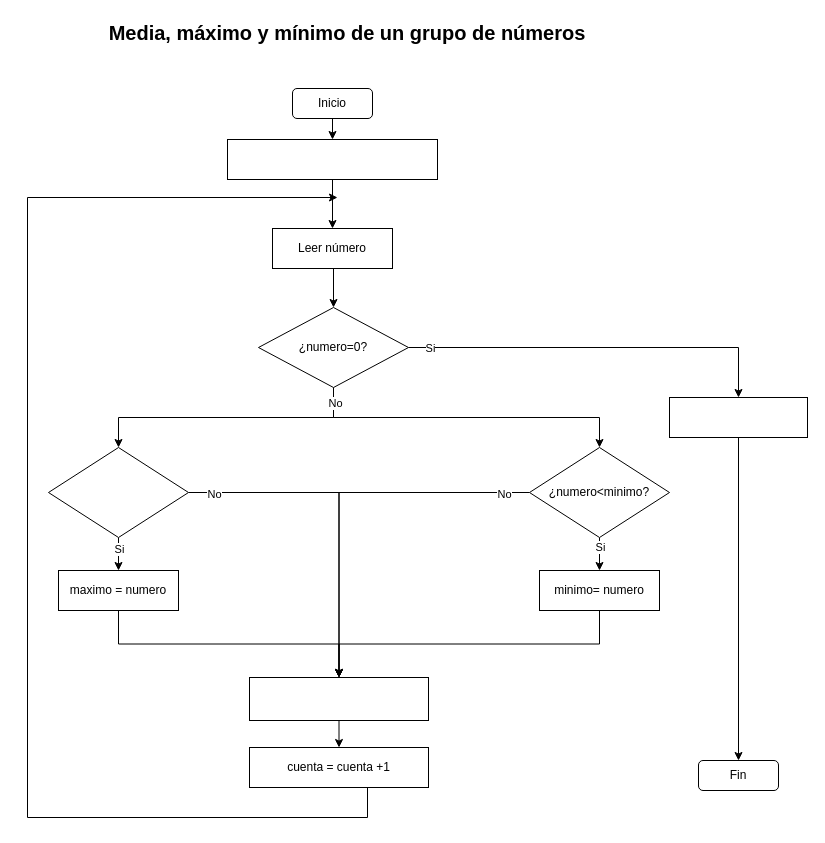
Some shapes in this 825 by 843 pixel diagram are drawn without their labels. The shapes that lost their labels are listed below. From the top down, each one's centre as x and y in pixels, then its label:
the point at 332,159: Inicializar variables: maximo, minimo, suma y cuenta
the point at 738,417: Escribir en pantalla: media, maximo, minimo
the point at 118,492: ¿numero>maximo?
the point at 338,698: suma = suma + numero
